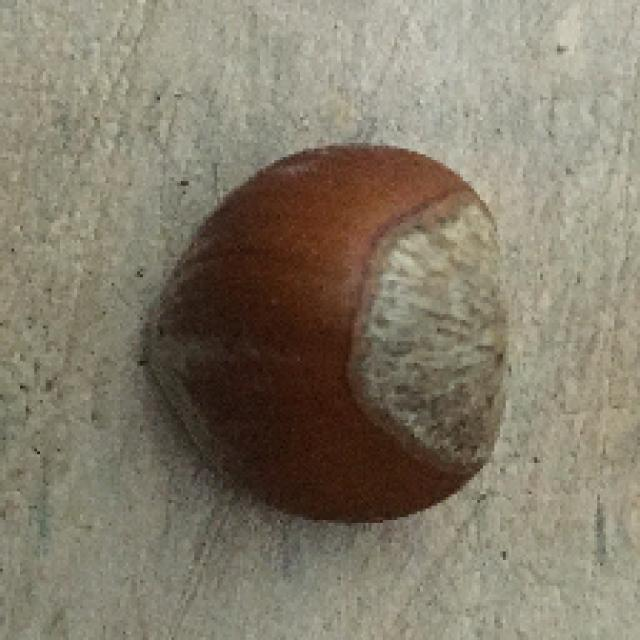QualityHazelnut: (136, 141, 514, 524)
